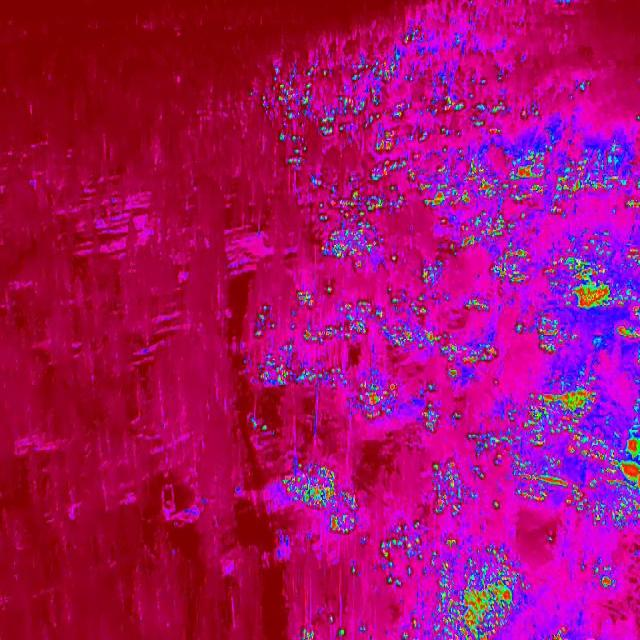fire: (256, 44, 536, 220), (243, 280, 507, 380), (507, 370, 640, 536), (437, 539, 538, 639), (542, 230, 640, 322), (514, 147, 640, 218), (422, 218, 534, 288), (274, 459, 358, 538), (374, 520, 444, 590), (357, 380, 442, 432), (432, 463, 503, 515), (516, 312, 582, 361), (322, 221, 386, 271), (452, 408, 510, 458), (577, 559, 620, 595), (246, 411, 276, 437), (613, 324, 640, 344), (399, 619, 424, 640), (292, 622, 319, 640), (548, 627, 571, 640), (334, 626, 352, 640)
